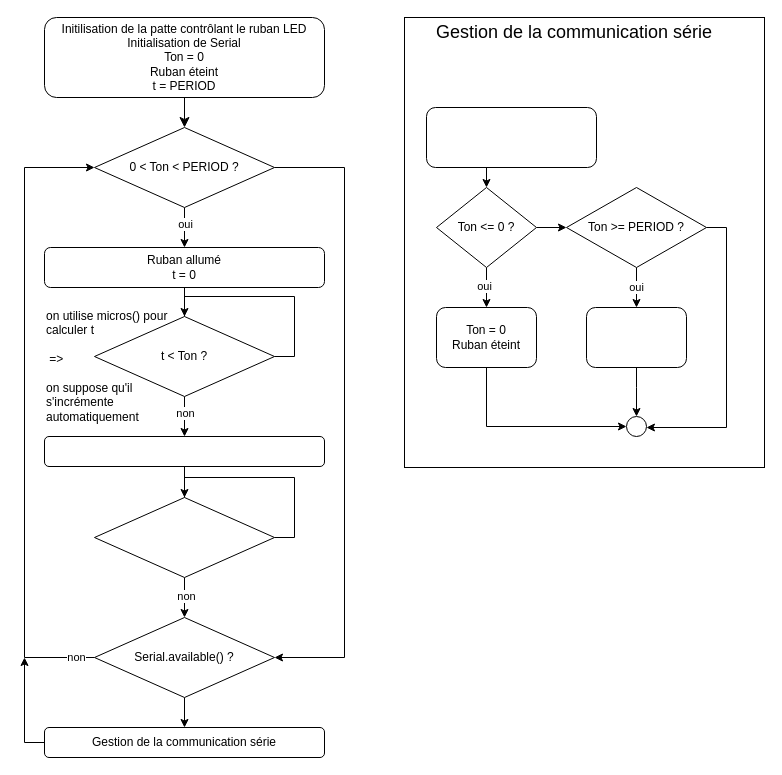
Some shapes in this 782 by 775 pixel diagram are drawn without their labels. Here are the shapes that lost their labels. From the top down, the centre of each, then its label:
At point 511,137: "Lecture du rapport cyclique Calcul de Ton".
At point 636,337: "Ton = PERIOD Ruban allumé".
At point 184,451: "Ruban éteint".
At point 184,537: "t < PERIOD ?".
